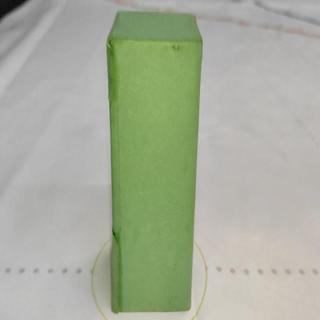greenbox: (105, 7, 204, 314)
